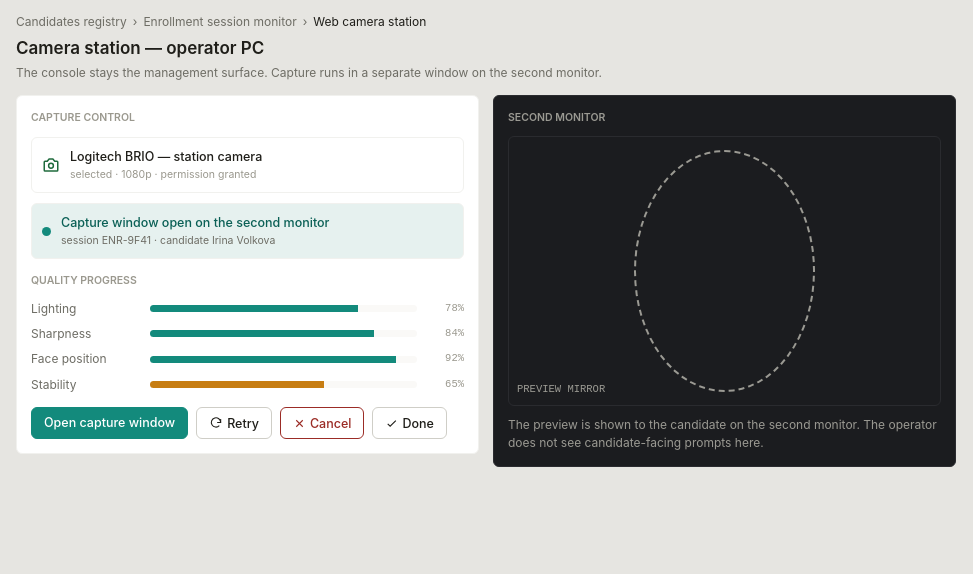
Test case: CameraStationScreen › Cancel on capturing transitions to cancelled committed-state
This screenshot has width=973, height=574.
expect the text "Logitech BRIO — station camera" is shown: met, box [70,149,262,164]
Click the button "Cancel": (322,423) [280,407,364,439]
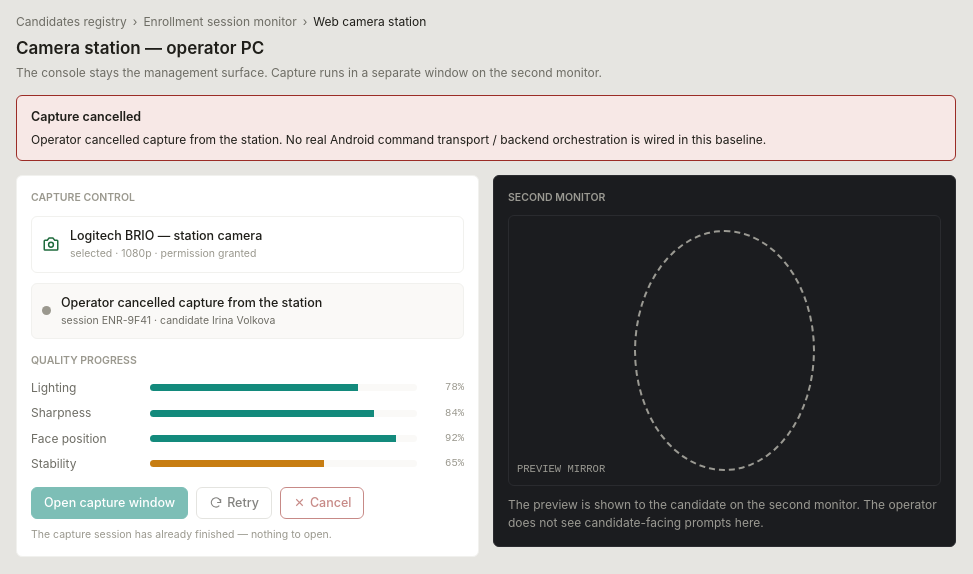
expect the text "Capture cancelled" is shown: met, box [31,109,141,124]
expect the text "Operator cancelled capture from the station" is shown: met, box [31,132,766,146]
